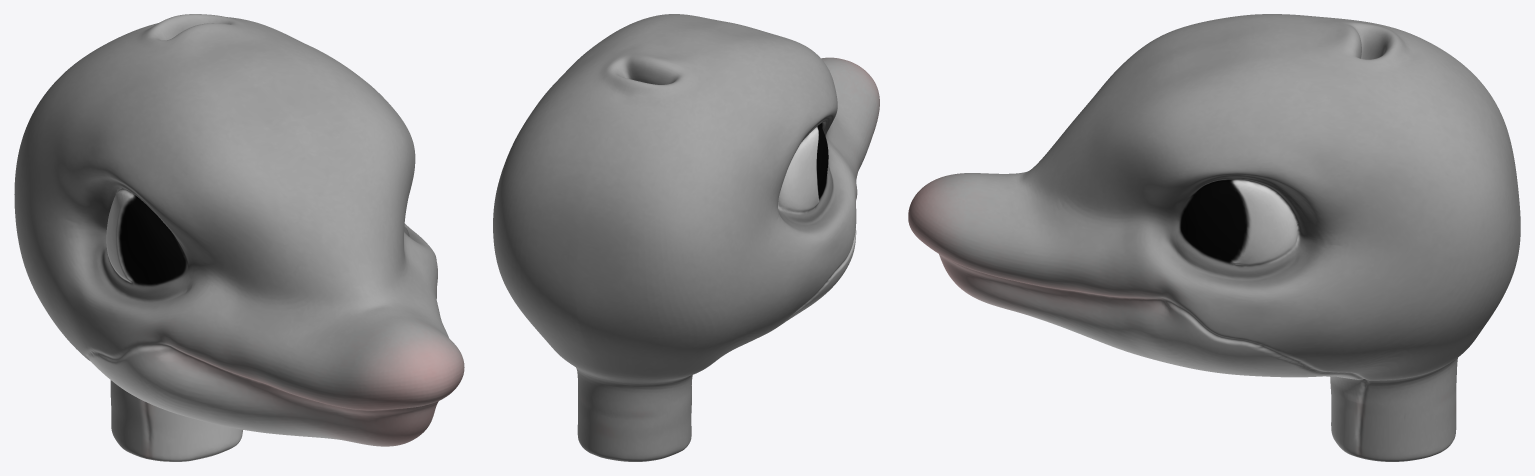
The model's file is Tete_Dauphin.glb.
3 renders of one model, left to right at view 1: azimuth 30°, elevation 25°; view 2: azimuth 150°, elevation 25°; view 3: azimuth 270°, elevation 25°, orthographic. The views are drawn at different scales.
Visible parts, largest first — view 1: Tete_Dauphin; view 2: Tete_Dauphin; view 3: Tete_Dauphin.
Boxes of the visible parts, x1,y1,x2,y2 form: Tete_Dauphin: (14,14,464,461); Tete_Dauphin: (493,14,879,461); Tete_Dauphin: (908,14,1520,461).
Size of the model in its own units: 3.35 by 4.26 by 5.81.
